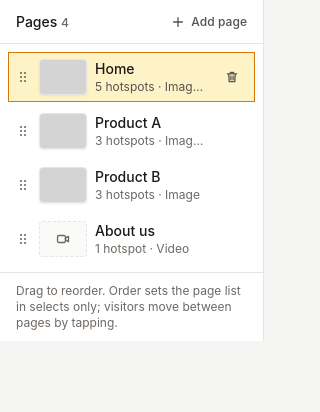
PageList (spec PG-1) › adds a page at the end and selects it
Click the button "Add page".
click(209, 22)  # box [163,8,255,36]
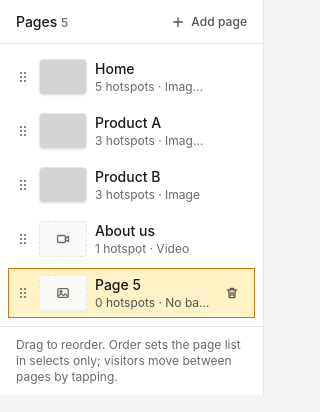
Check: the text "Page 5" is shown, box [95,276,141,293]
